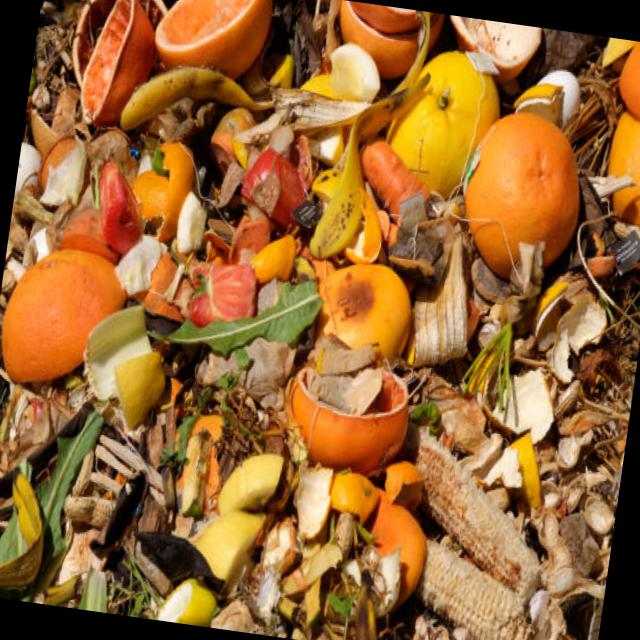paper: (458, 99, 606, 312), (298, 53, 442, 264), (402, 415, 568, 582), (0, 228, 135, 388), (381, 40, 498, 222), (395, 527, 554, 640), (146, 0, 316, 104), (59, 0, 173, 143), (362, 477, 427, 607), (217, 446, 288, 520), (313, 455, 373, 537)
